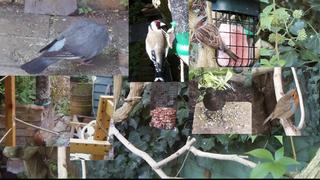blackbird: (202, 87, 232, 124)
goldfinch: (145, 20, 169, 82)
robin: (261, 87, 299, 128)
sparrow: (194, 16, 240, 62)
wood pigeon: (20, 20, 109, 75)
